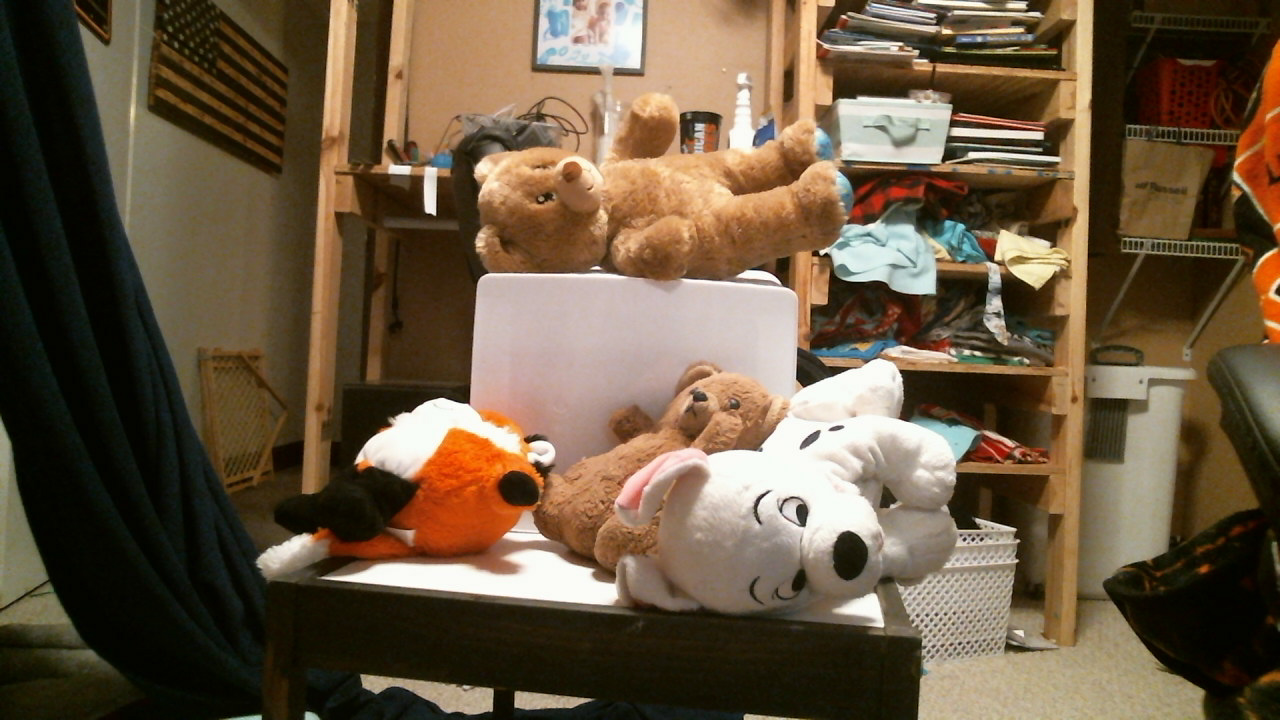Little_Mister_Bear: (681, 384, 756, 444)
